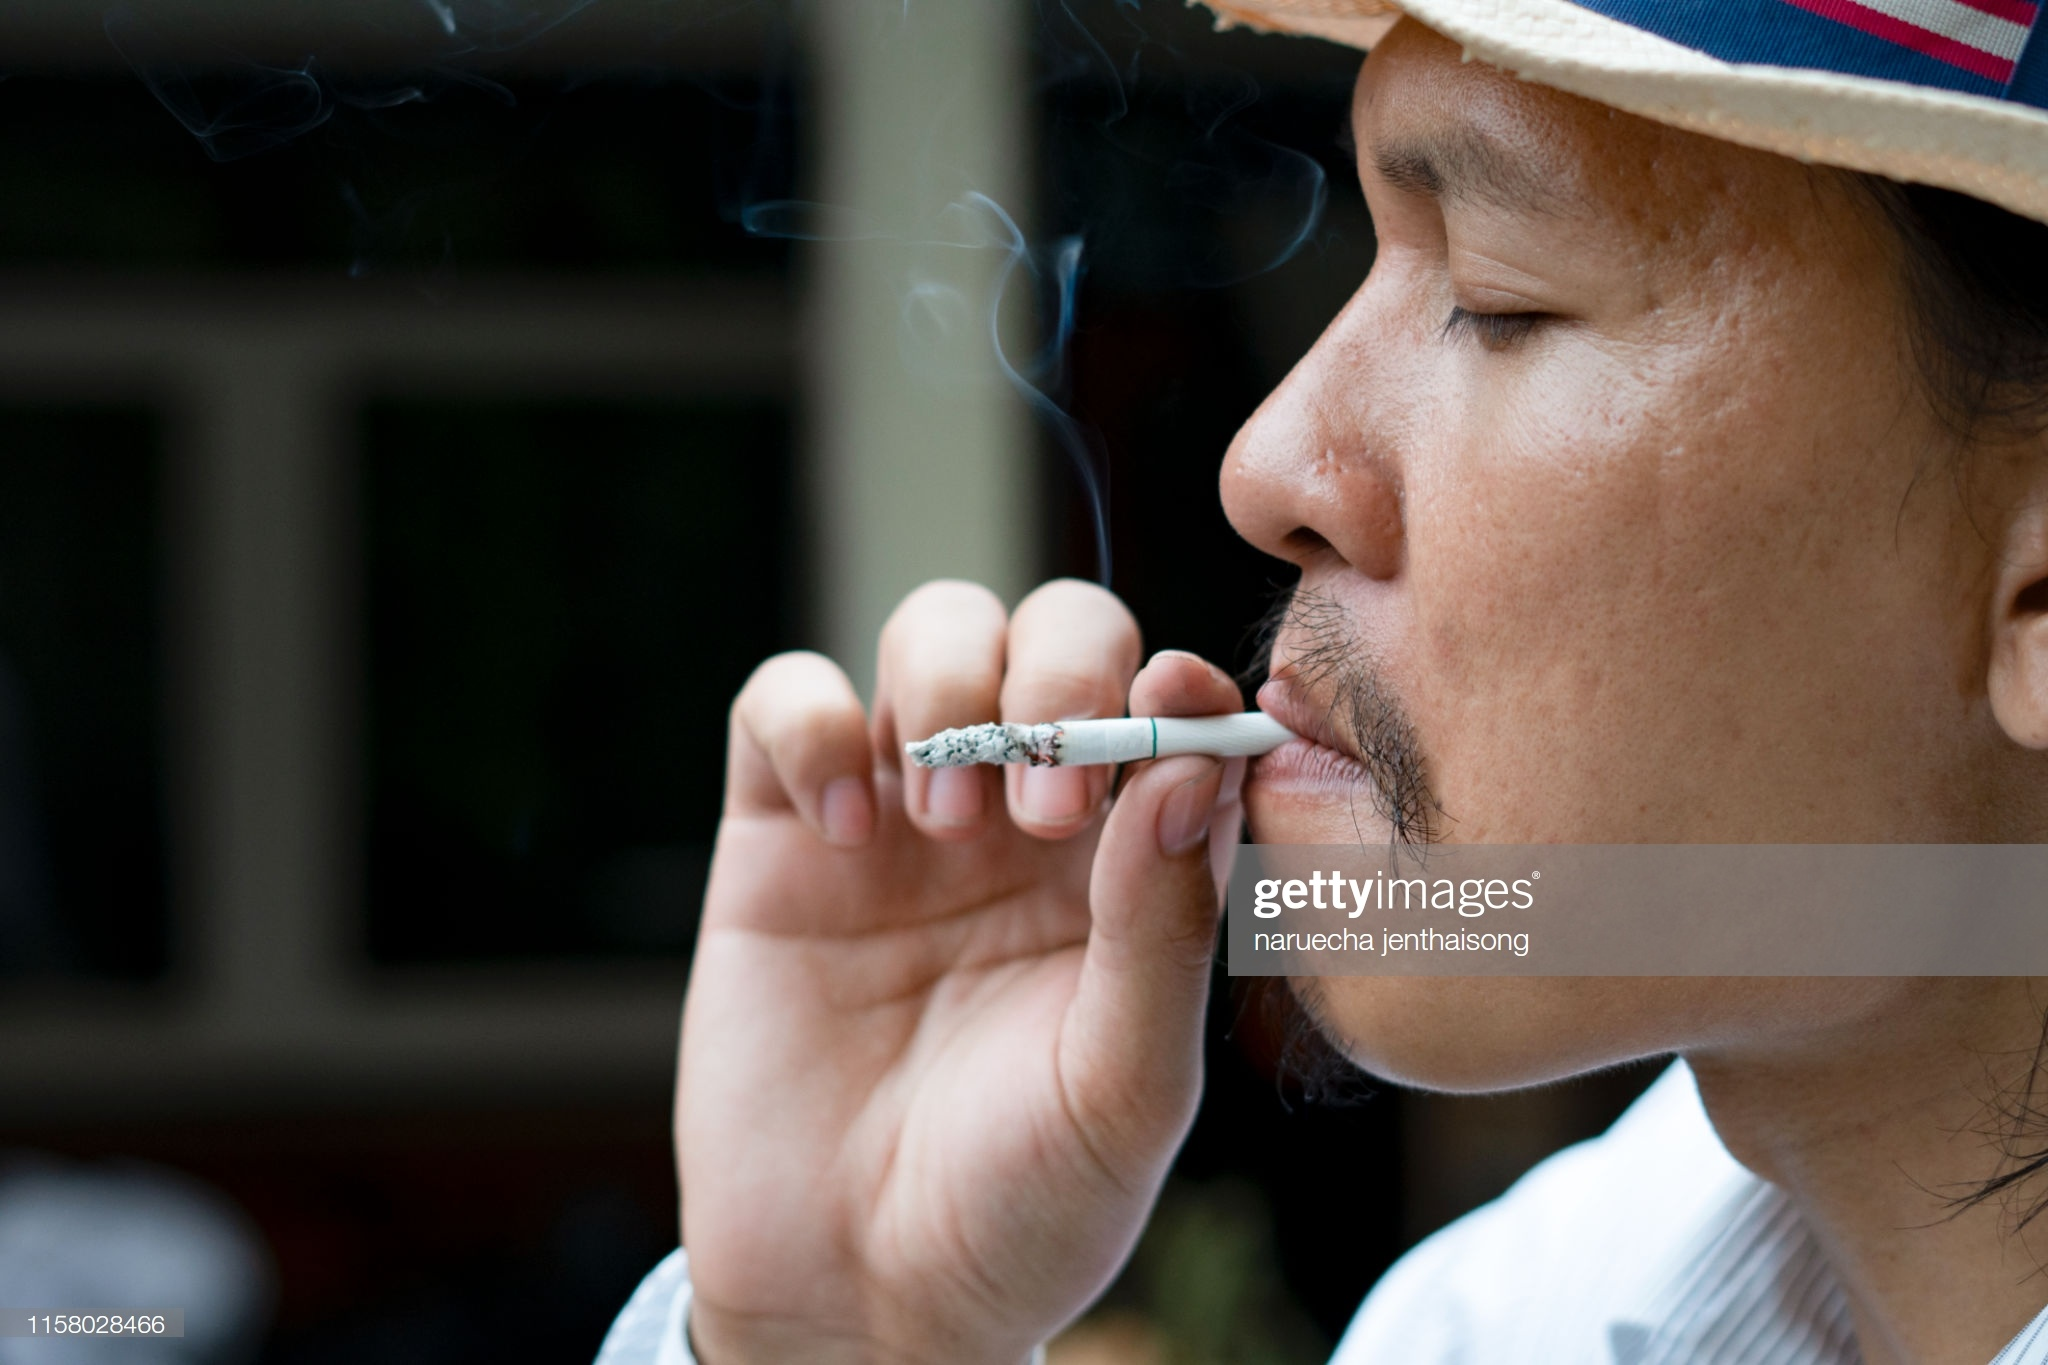sigaretta: (898, 699, 1306, 763)
